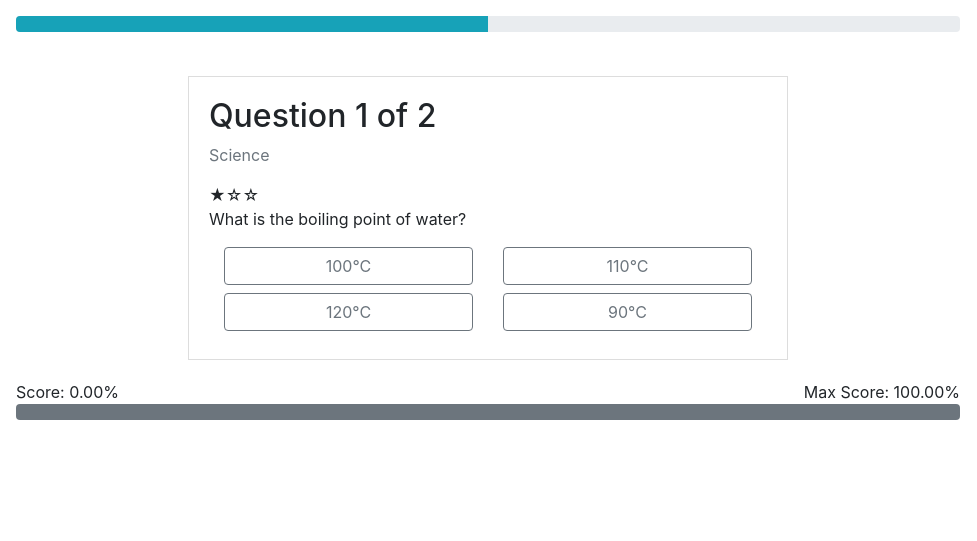
Test: QuestionComponent › updates state and shows result on answering a question
The width and height of the screenshot is (977, 541).
Click the button "100°C" at (348, 266), box [224, 247, 473, 285]
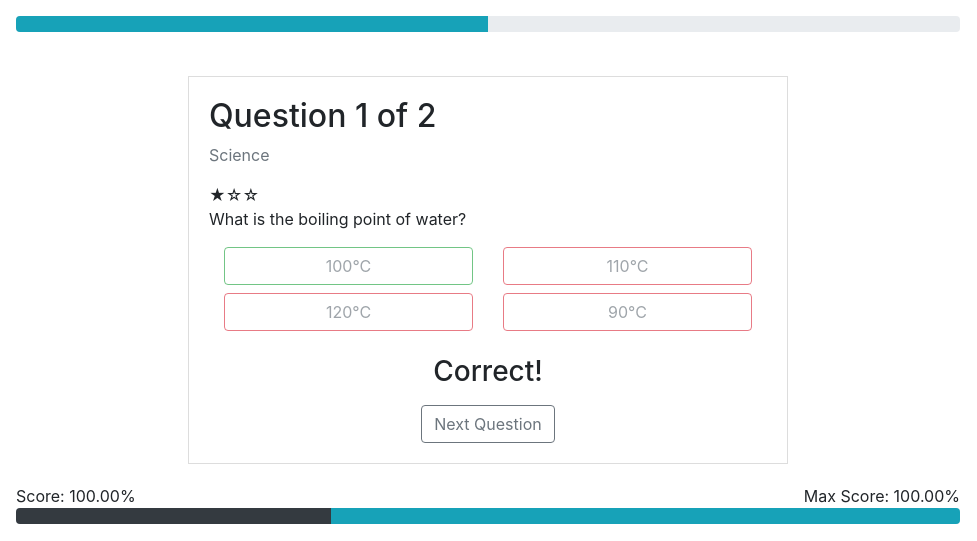
Expected: the heading "Correct!" is shown, [433, 354, 543, 388]
